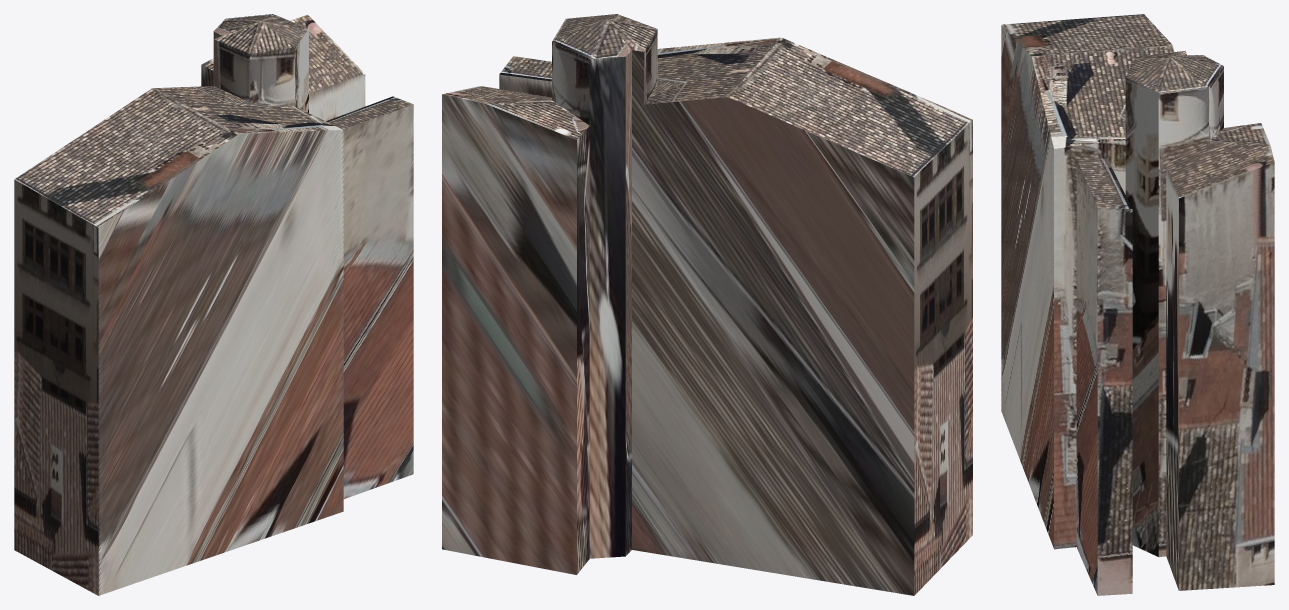
3 views of the same model, side by side, from view 1: azimuth 30°, elevation 25°; view 2: azimuth 150°, elevation 25°; view 3: azimuth 270°, elevation 25° (orthographic). The views are drawn at different scales.
Parts seen in each view (by area): view 1: Z_UP; view 2: Z_UP; view 3: Z_UP.
Part boxes in pixels (box(x1,y1,x2,y2)): Z_UP: box(14, 14, 413, 595); Z_UP: box(442, 14, 972, 595); Z_UP: box(1001, 14, 1274, 595).
Bounding box in the file's own units: 22.72 × 26.28 × 13.59.
Materials: 2 (1 with a texture image).
